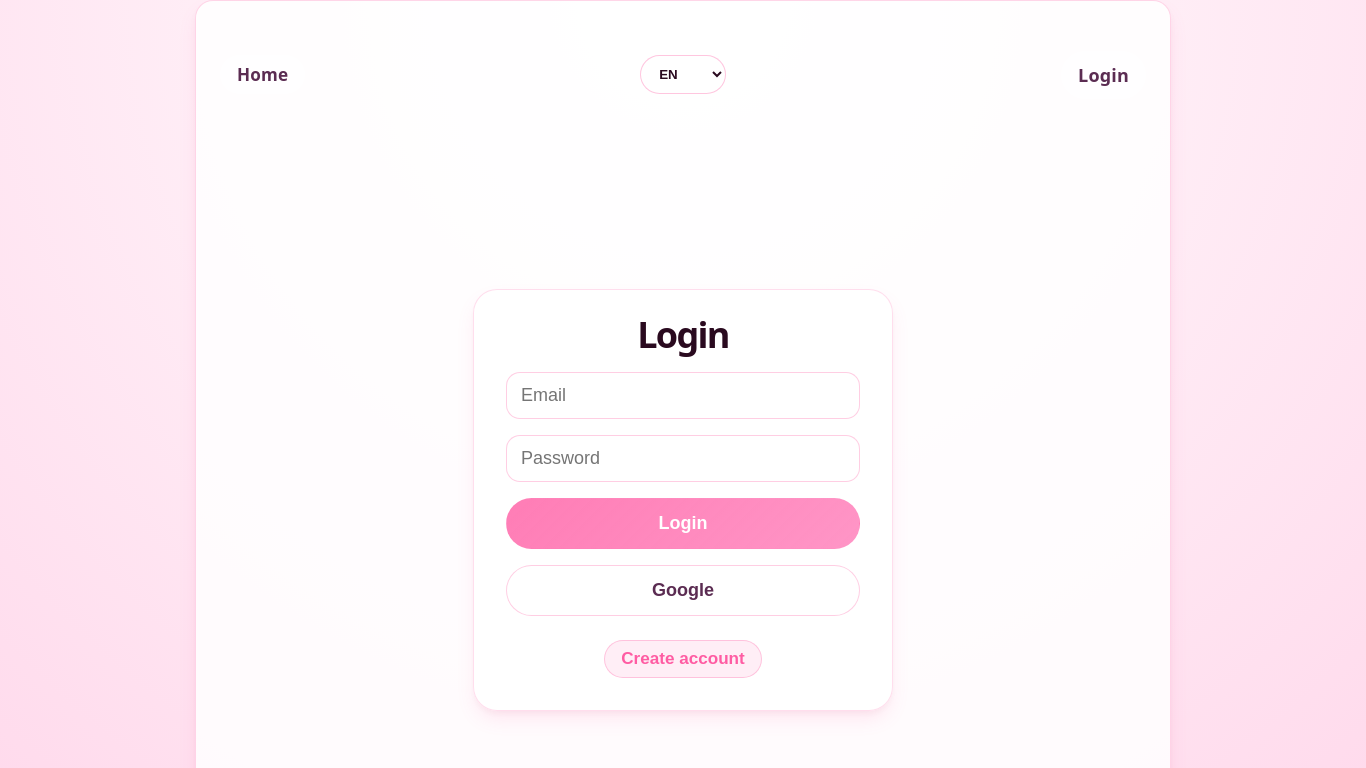
SignUpForm › shows validation errors when fields are empty
The image size is (1366, 768).
Click the button "Create account": (683, 659) [604,640,762,678]
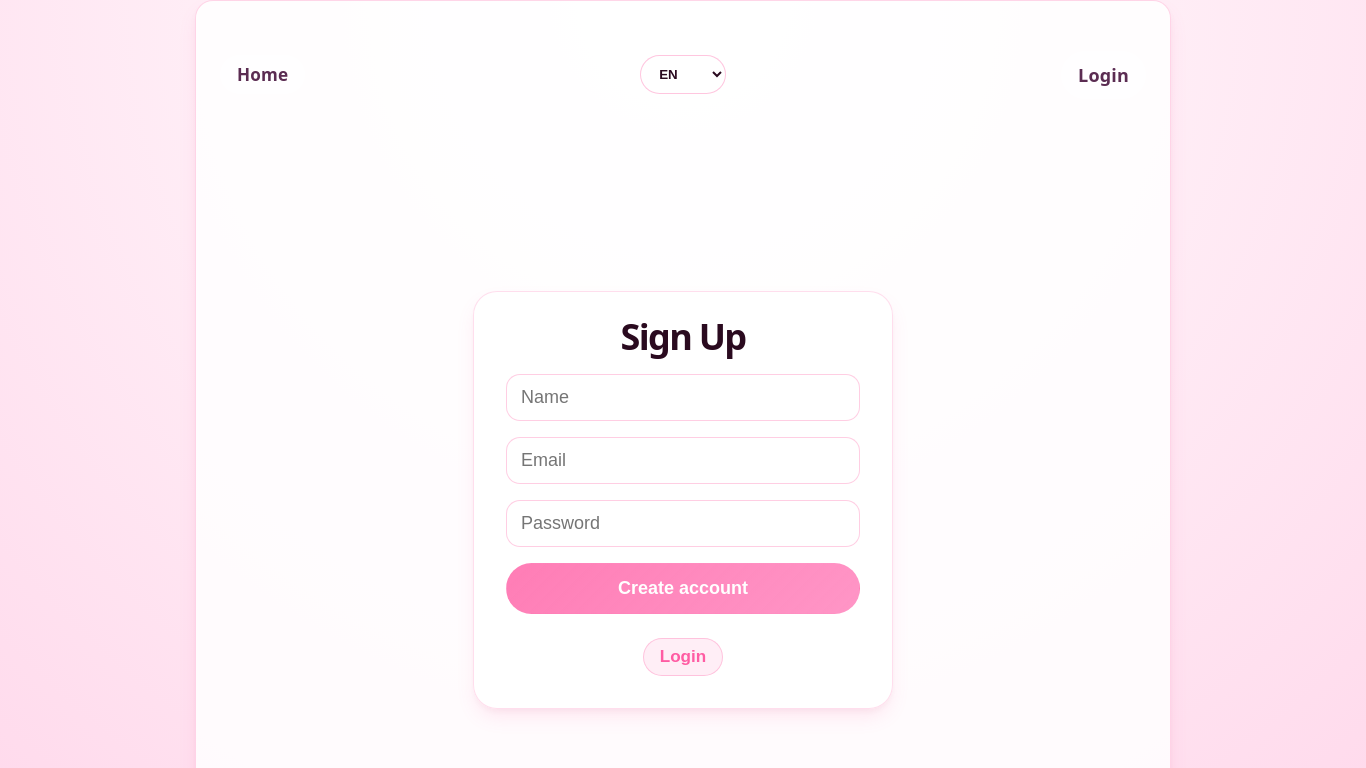
Click the submit button: (683, 589) [506,563,860,614]
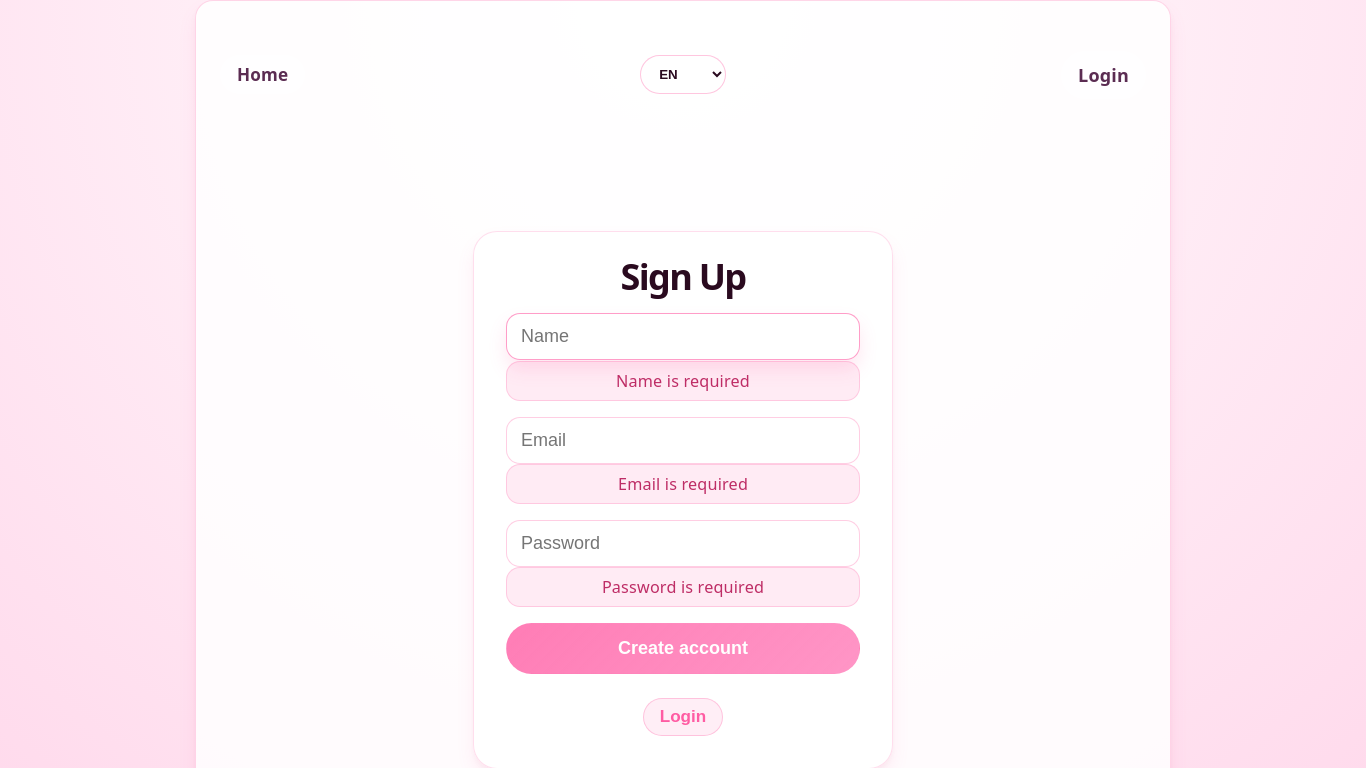
Check: the text "Name is required" is shown, box [506,361,860,401]
Check: the text "Email is required" is shown, box [506,464,860,504]
Check: the text "Password is required" is shown, box [506,567,860,607]
